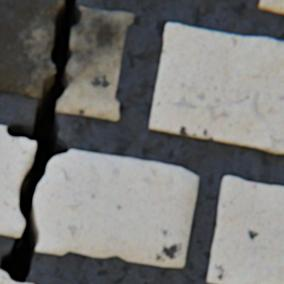brick: (149, 24, 283, 154), (206, 177, 283, 283), (258, 0, 283, 15)
broken_brick: (34, 150, 197, 267), (56, 7, 133, 121), (0, 0, 63, 97), (0, 126, 35, 236), (0, 270, 20, 283)
crack: (0, 0, 81, 283)
